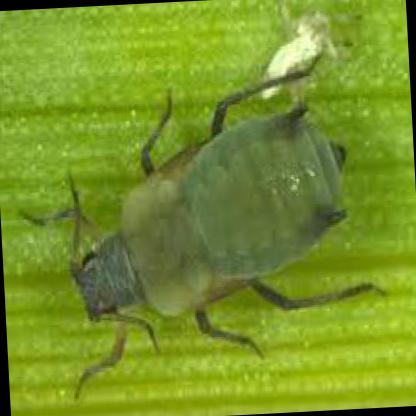schizaphis graminum: (19, 69, 366, 360)
